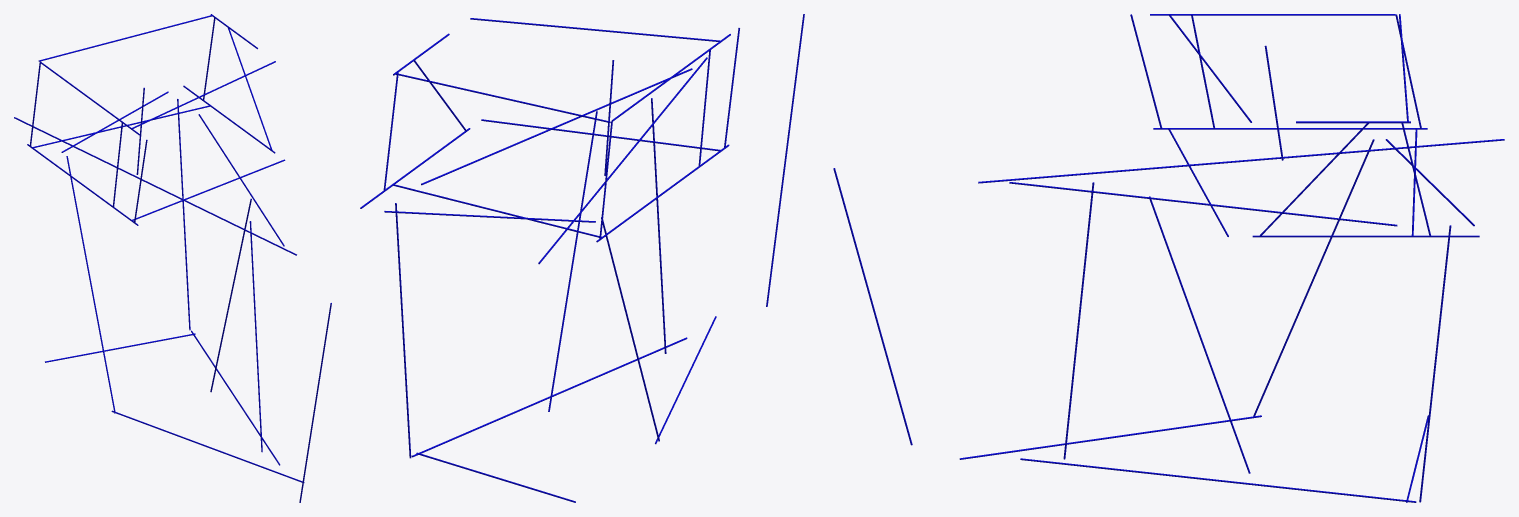
File: corrected_3d_strokes.glb
3 views of the same model, side by side, from view 1: azimuth 30°, elevation 25°; view 2: azimuth 150°, elevation 25°; view 3: azimuth 270°, elevation 25° (orthographic). The views are drawn at different scales.
Visible parts, largest first — view 1: world; view 2: world; view 3: world.
Part boxes in pixels (bbox=[...]): world: bbox=[14, 14, 331, 502]; world: bbox=[360, 14, 804, 502]; world: bbox=[833, 14, 1504, 502].
Bounding box in the file's own units: 5.48 × 9.26 × 14.36.
